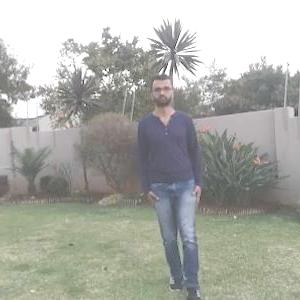follow: (149, 90, 204, 275)
